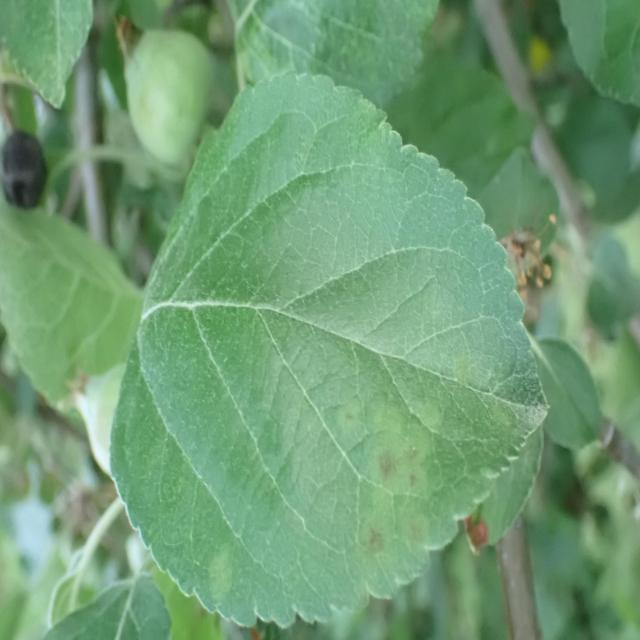scab: (182, 275, 524, 640)
